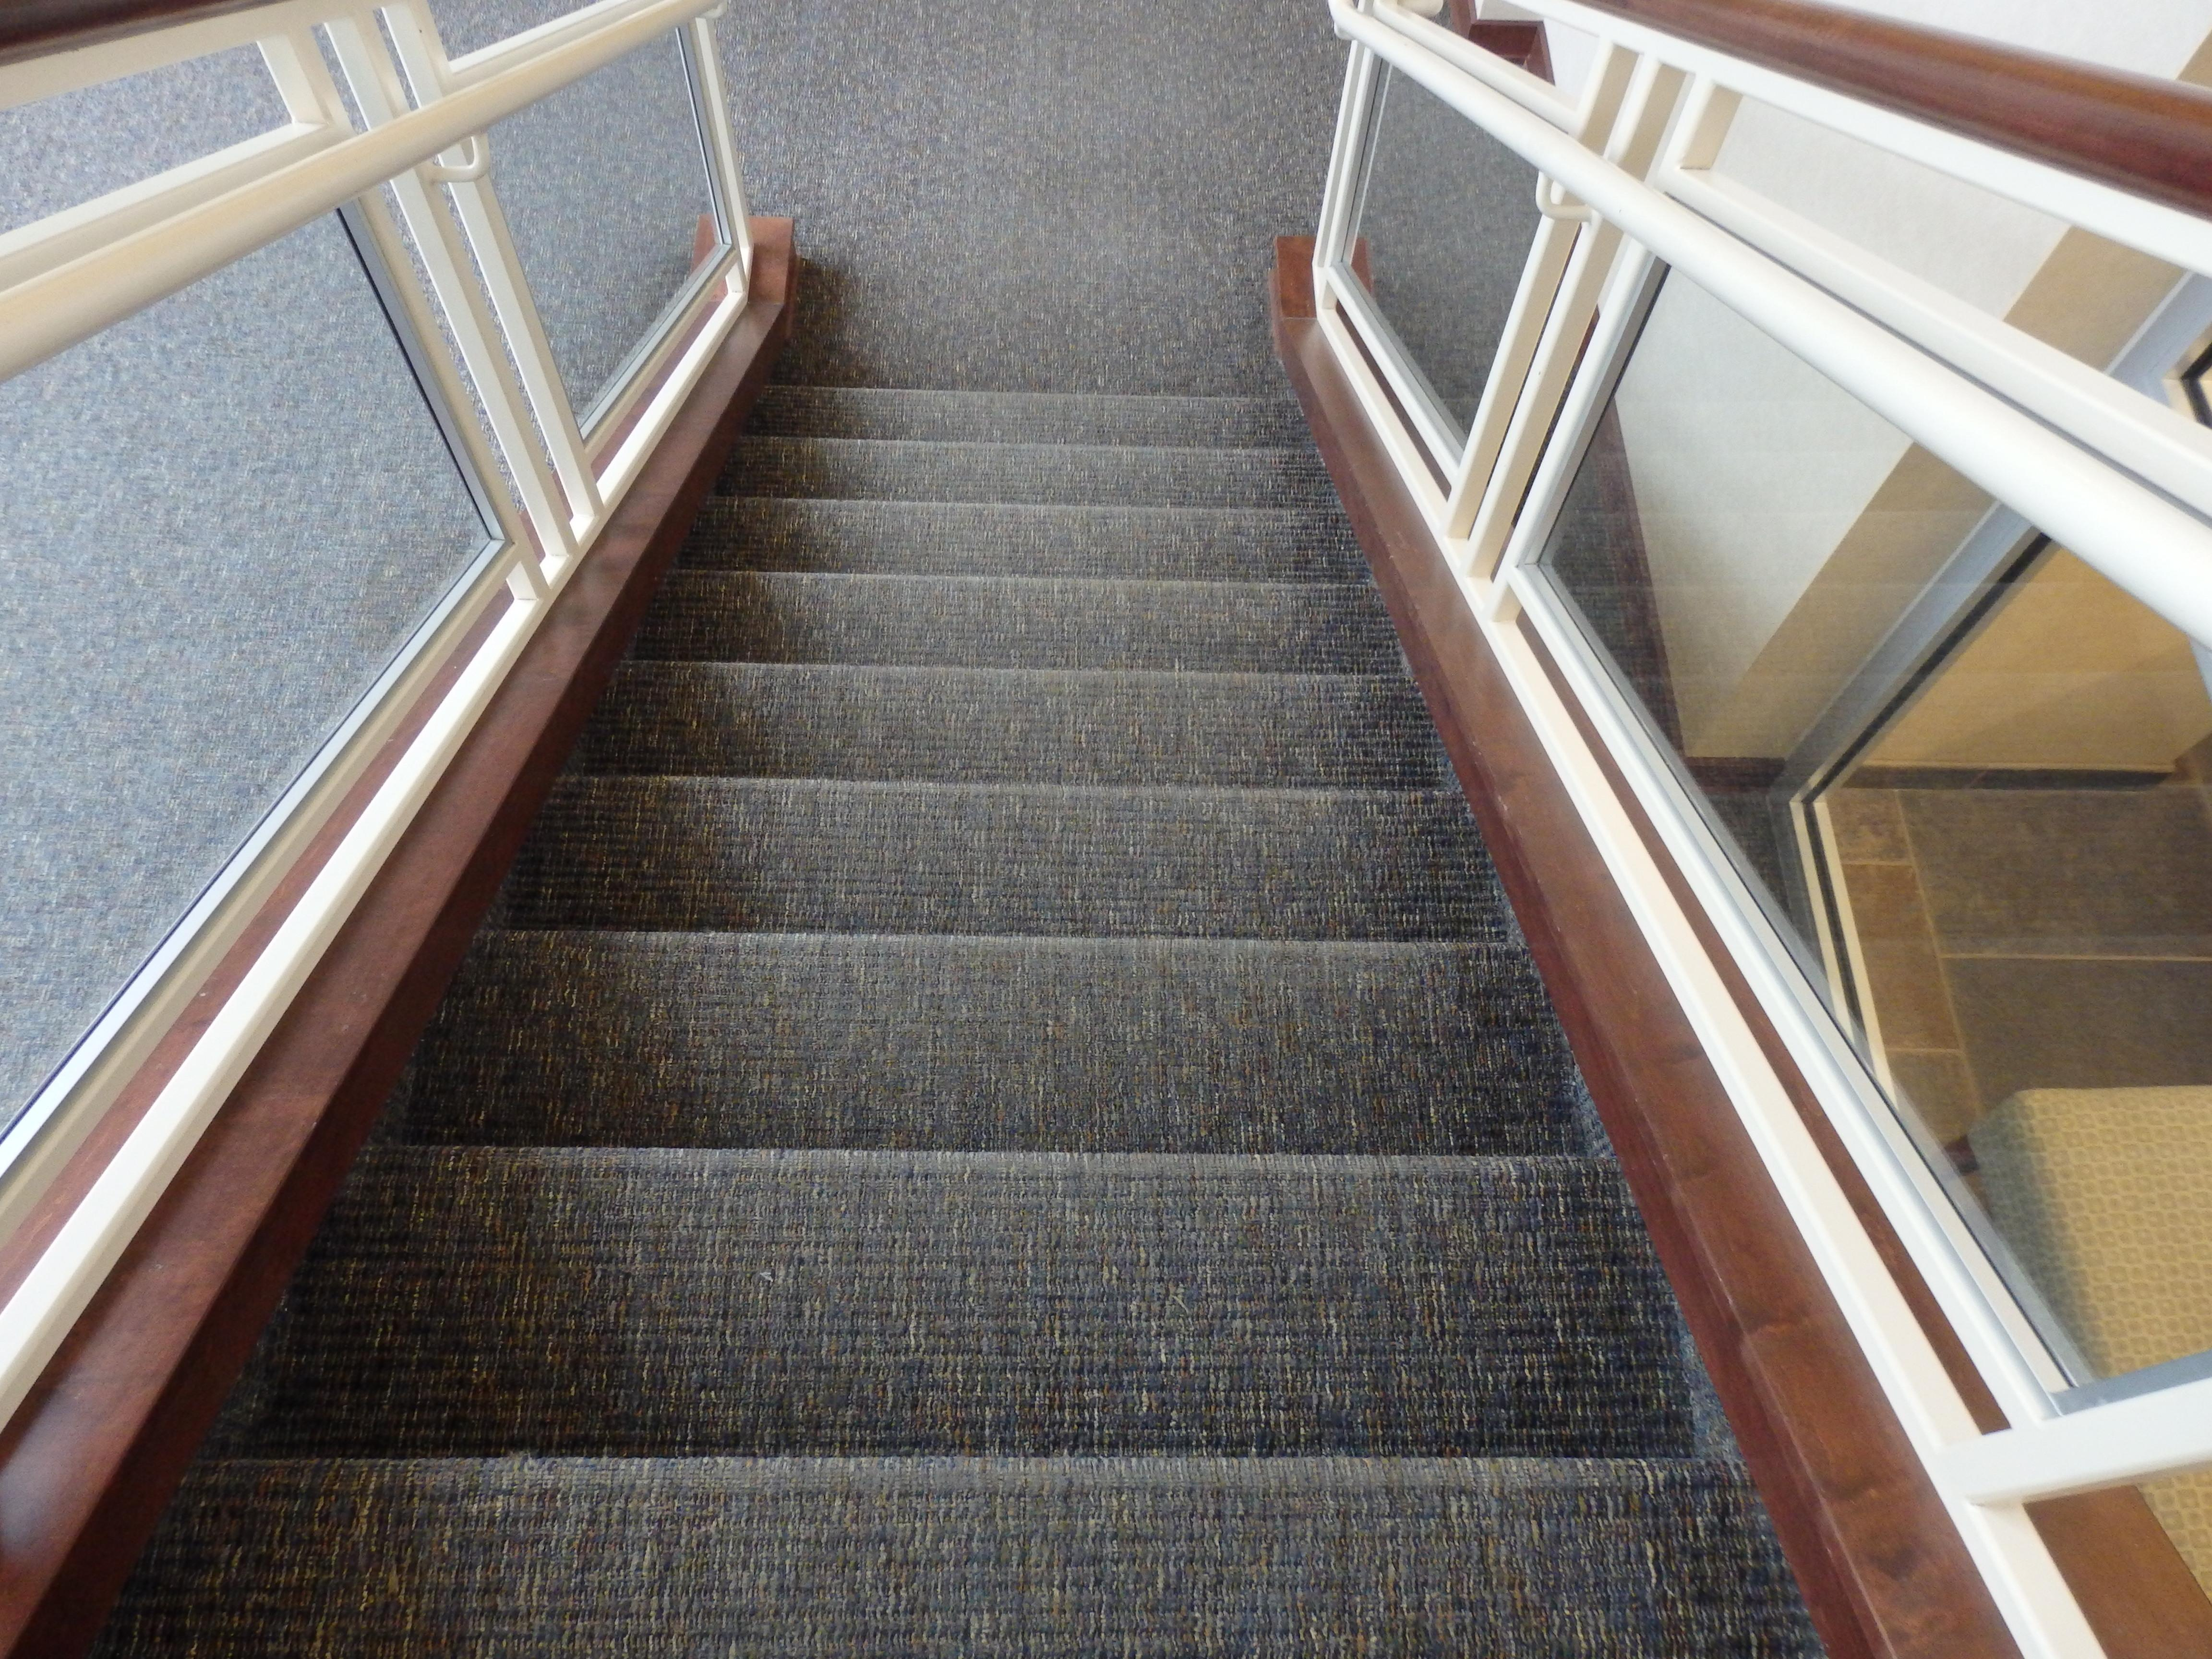stairs_down: (160, 369, 1756, 1551)
